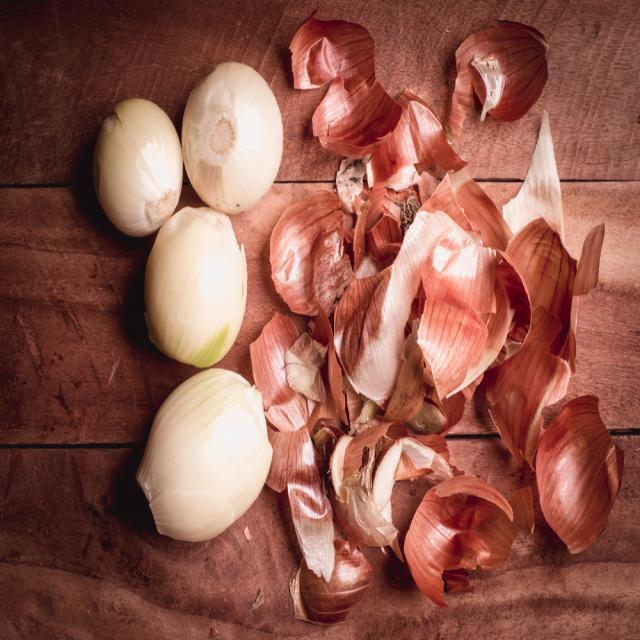Onion: (245, 12, 629, 625), (133, 371, 273, 542), (142, 209, 248, 370), (185, 62, 285, 218), (90, 95, 183, 238)
